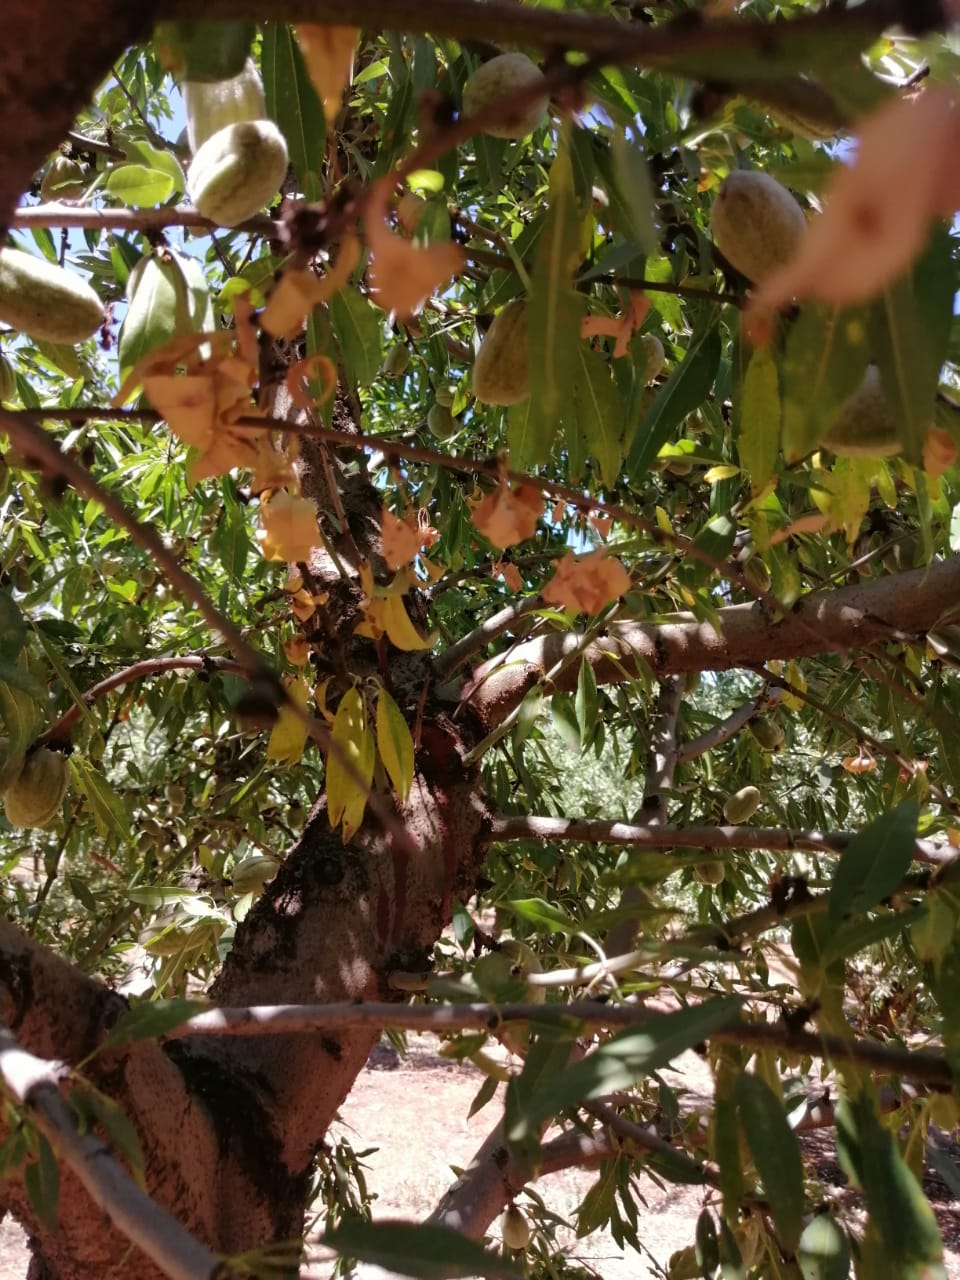chancre fusicocum: (90, 314, 329, 567), (264, 177, 467, 348)
